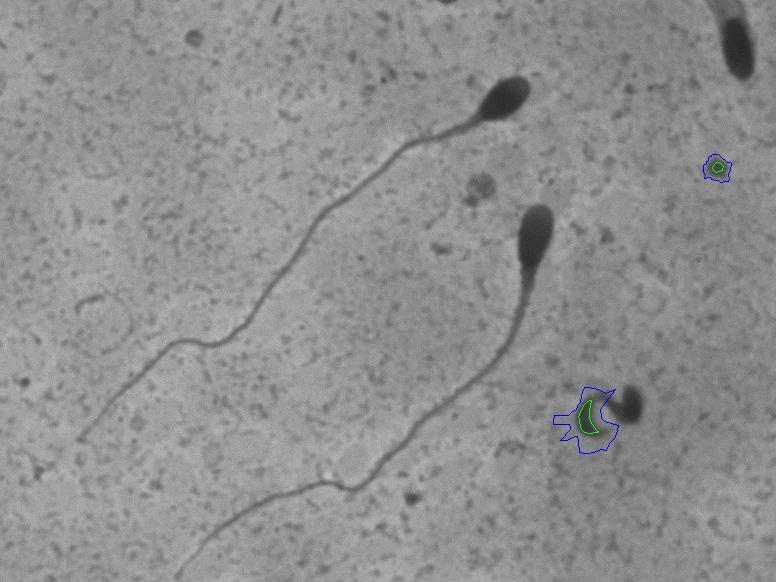Abnormal: (170, 186, 564, 572)
Normal: (49, 54, 556, 471)
